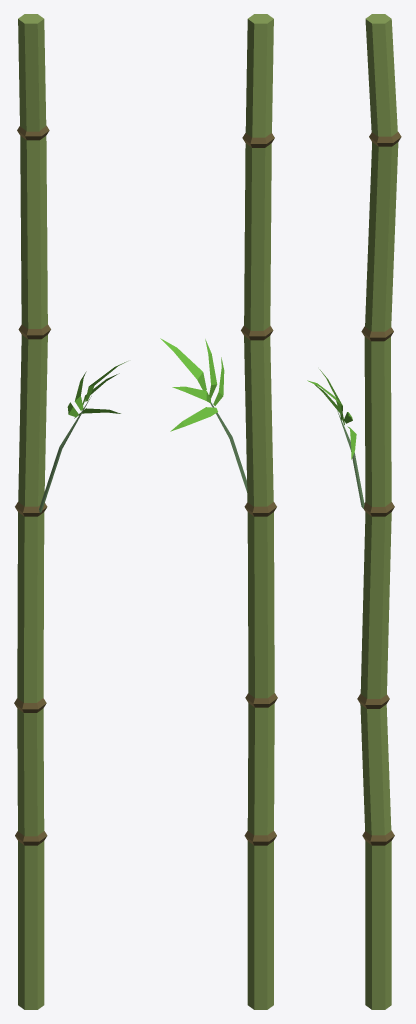
The model's file is bamboo_pole_01.glb.
3 renders of one model, left to right at view 1: azimuth 30°, elevation 25°; view 2: azimuth 210°, elevation 25°; view 3: azimuth 270°, elevation 25°, orthographic.
Visible parts, largest first — view 1: bamboo_01, bamboo_01_rings, bamboo_steam.051, bamboo_steam.049; view 2: bamboo_01, bamboo_01_rings, bamboo_steam.051, bamboo_steam.049; view 3: bamboo_01, bamboo_01_rings, bamboo_steam.051, bamboo_steam.049.
Part boxes in pixels (x1,y1,x2,y2): bamboo_01: (17,14,47,1009); bamboo_01_rings: (14,125,50,845); bamboo_steam.051: (67,361,127,418); bamboo_steam.049: (39,396,91,512); bamboo_01: (244,14,274,1009); bamboo_01_rings: (241,133,277,845); bamboo_steam.051: (160,338,224,431); bamboo_steam.049: (210,402,247,492); bamboo_01: (360,14,398,1009); bamboo_01_rings: (357,132,401,845); bamboo_steam.051: (307,369,356,459); bamboo_steam.049: (337,410,364,508).
Bounding box in the file's own units: 0.2184 × 2.22 × 0.194.
